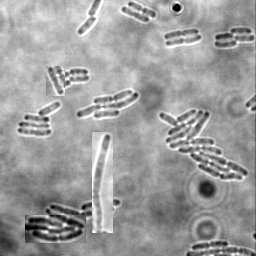Dividing: (92, 132, 113, 233), (128, 1, 157, 18), (166, 34, 202, 47), (164, 28, 200, 39), (192, 239, 229, 249), (66, 67, 89, 81)
Microcolony: (158, 109, 249, 180), (76, 88, 139, 119), (45, 199, 121, 224), (25, 215, 86, 243), (18, 101, 61, 136), (214, 27, 255, 48)
Rod: (46, 66, 65, 96), (121, 5, 150, 23), (78, 16, 99, 34), (69, 73, 90, 82)
